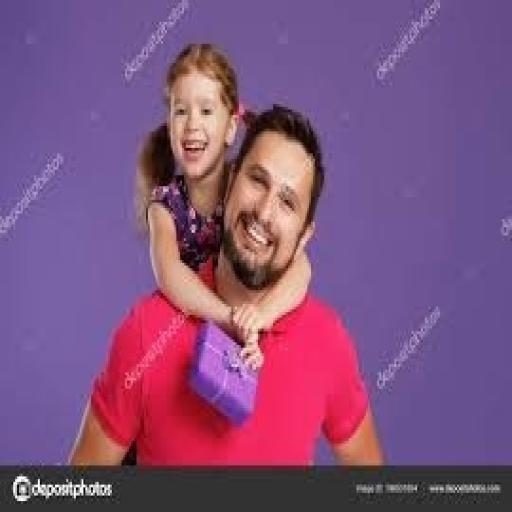hugging: (64, 101, 387, 468)
